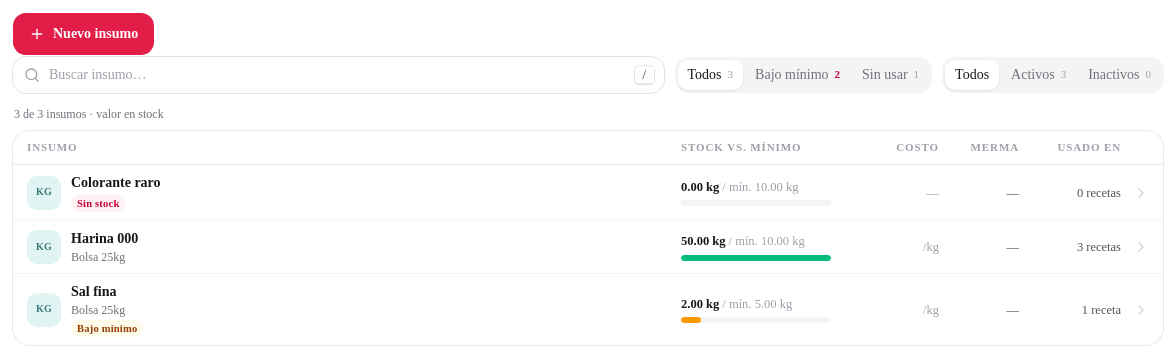
IngredientsTab (spec 205 · D10) › «Sin usar» es recipeCount === 0
Click the button "Sin usar 1". click: (891, 75)
box: [852, 60, 929, 90]
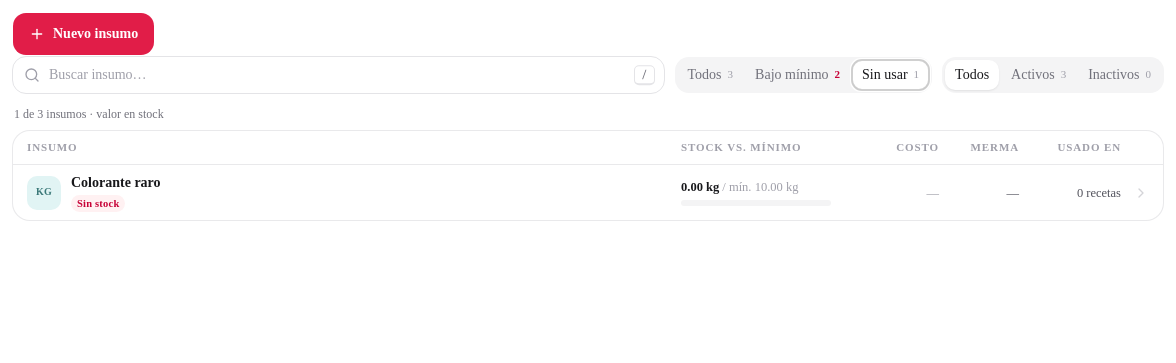
Check: the text "Colorante raro" is shown, box [71, 173, 161, 193]
Check: the text "Harina 000" is gone
Check: the text "Sal fina" is gone
